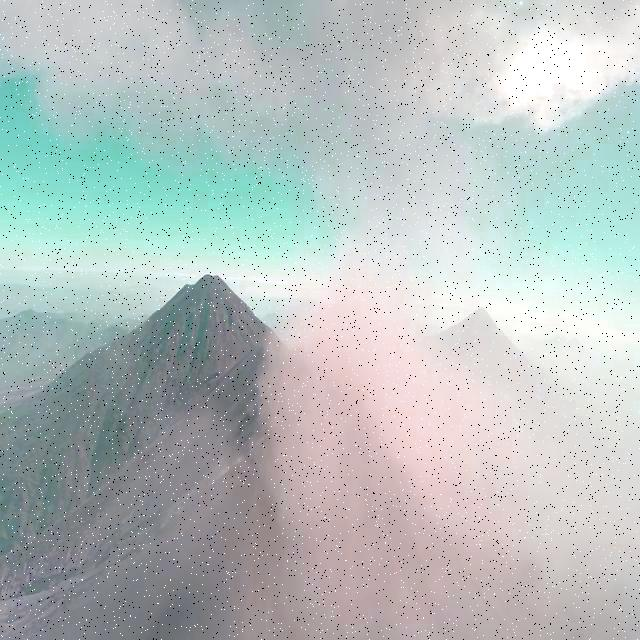Plume: (234, 220, 611, 638), (0, 0, 640, 194)
